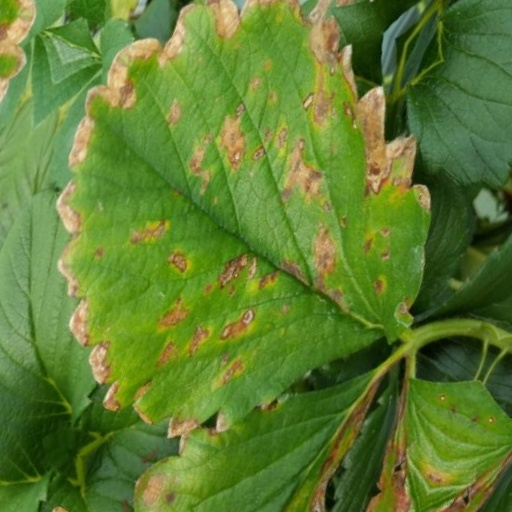Angular Leafspot: (33, 0, 429, 460), (242, 287, 428, 511), (437, 276, 511, 511)
